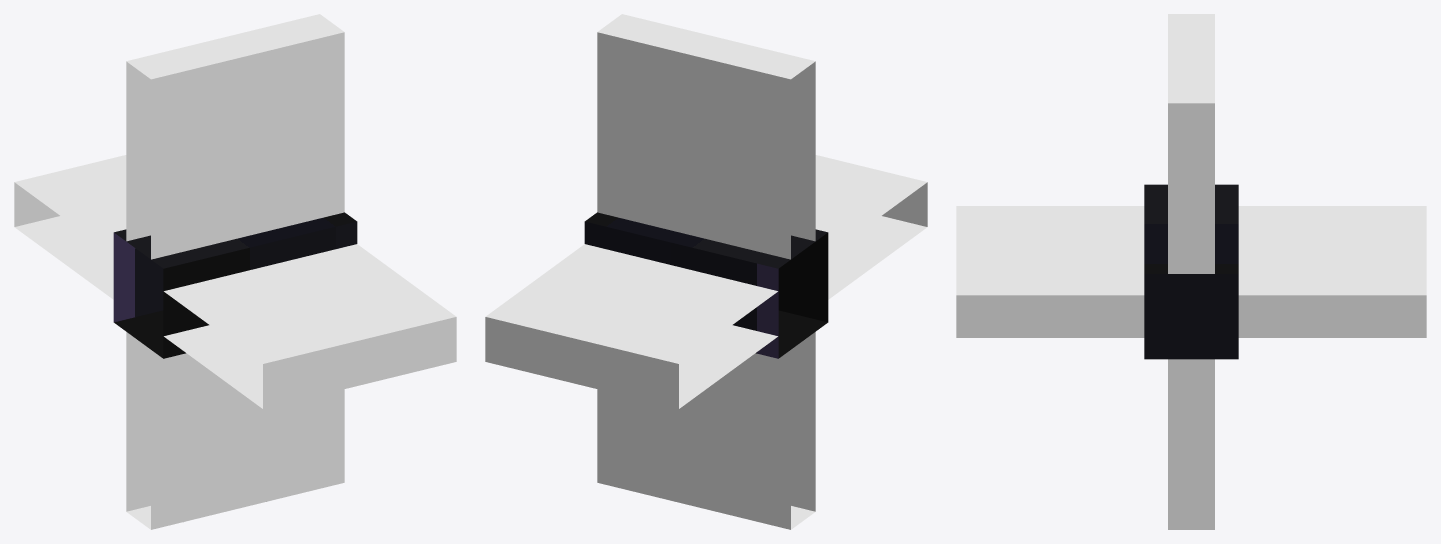
File: generator_fan.obj
3 views of the same model, side by side, from view 1: azimuth 30°, elevation 25°; view 2: azimuth 150°, elevation 25°; view 3: azimuth 270°, elevation 25° (orthographic). The views are drawn at different scales.
Visible parts, largest first — view 1: rotor1, rotor4, rotor2, hub, rotor3; view 2: rotor1, rotor3, rotor2, hub, rotor4; view 3: rotor3, rotor4, hub, rotor1, rotor2.
Boxes of the visible parts, left/top/right/bottom form: rotor1: left=126, top=14, right=344, bottom=259; rotor4: left=164, top=244, right=456, bottom=408; rotor2: left=126, top=332, right=344, bottom=529; hub: left=113, top=212, right=357, bottom=358; rotor3: left=14, top=155, right=126, bottom=299; rotor1: left=597, top=14, right=815, bottom=259; rotor3: left=485, top=244, right=777, bottom=408; rotor2: left=597, top=332, right=815, bottom=529; hub: left=584, top=212, right=828, bottom=358; rotor4: left=815, top=155, right=927, bottom=299; rotor3: left=1238, top=206, right=1426, bottom=337; rotor4: left=956, top=206, right=1144, bottom=337; hub: left=1144, top=184, right=1238, bottom=359; rotor1: left=1168, top=14, right=1214, bottom=273; rotor2: left=1168, top=359, right=1214, bottom=529.
Size of the model in its own units: 2.25 by 5 by 5.
